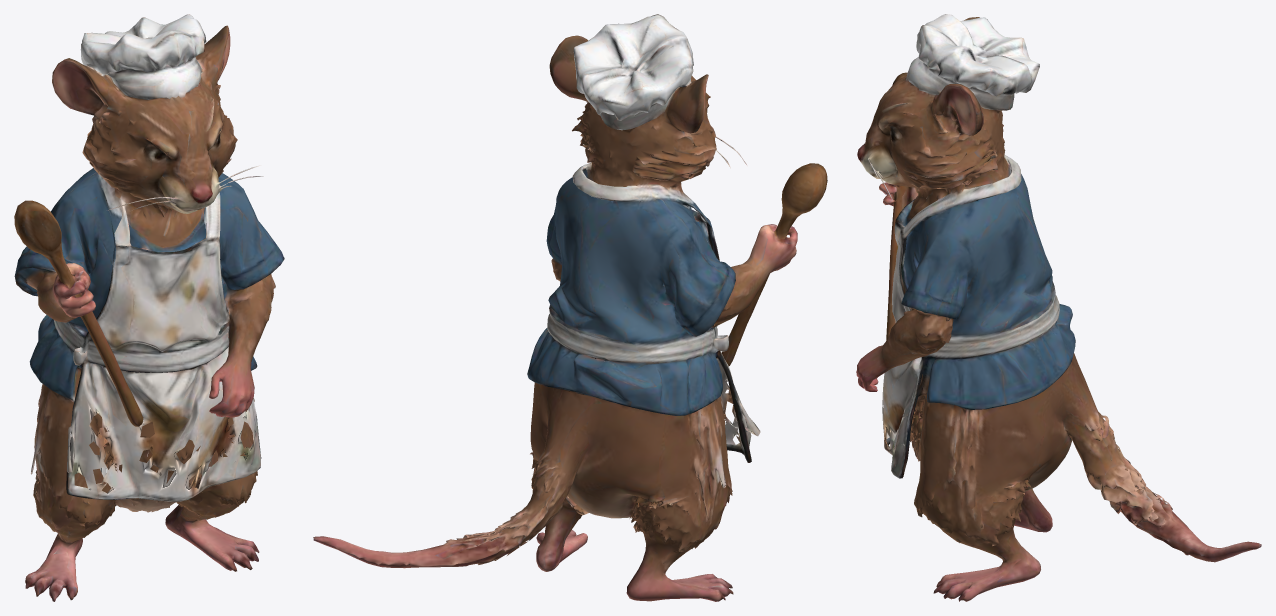
Rendered from token_galley_rat.glb.
The picture shows the model from 3 angles, left to right: view 1: azimuth 30°, elevation 25°; view 2: azimuth 150°, elevation 25°; view 3: azimuth 270°, elevation 25°; orthographic projection. The views are drawn at different scales.
Size of the model in its own units: 0.5659 by 0.8708 by 0.6028.
Materials: 1 (1 with a texture image).
